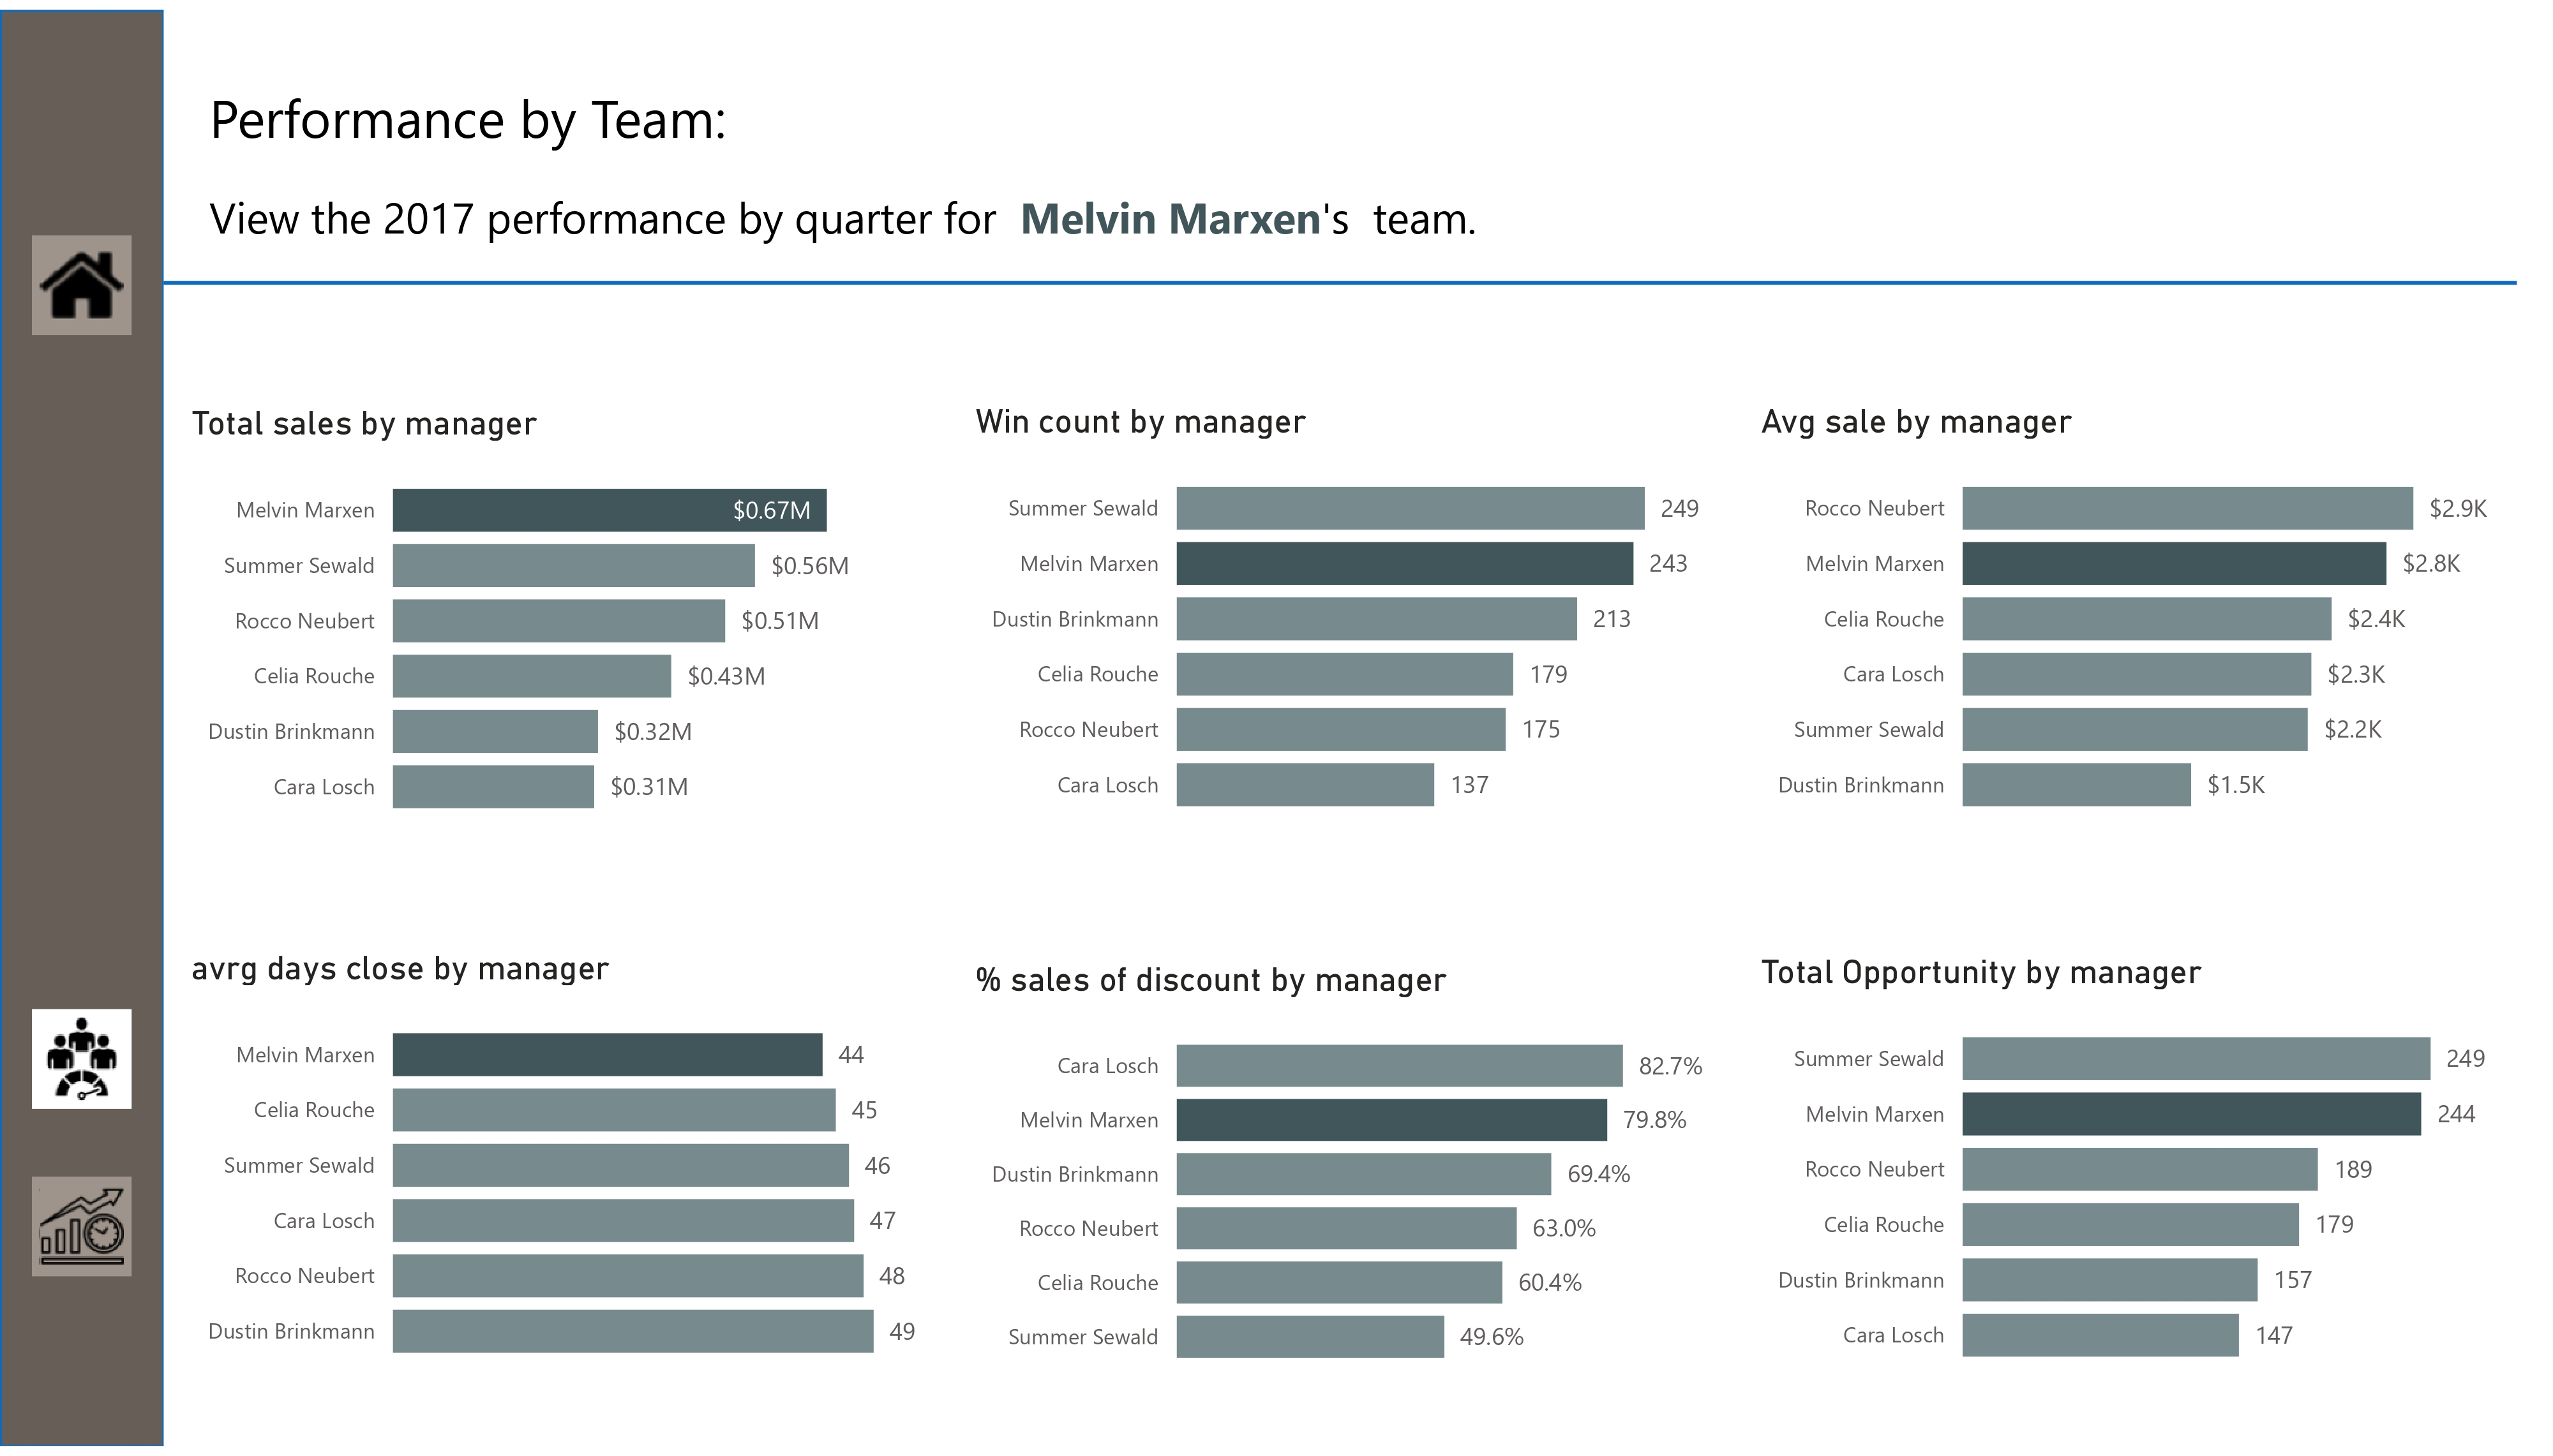

This screenshot's page, from the dashboard's own definition file:
{"tool":"powerbi","page":{"name":"Performance by Team","canvas":[1280,720],"ordinal":2},"visuals":[{"type":"clusteredBarChart","fields":{"Category":["sales_teams.manager"],"Y":["Measure.Total sales"]},"box":[90.8,196.9,375,220],"z":0},{"type":"clusteredBarChart","fields":{"Category":["sales_teams.manager"],"Y":["Measure.Win count"]},"box":[484.4,196.2,375,220],"z":1000},{"type":"clusteredBarChart","fields":{"Category":["sales_teams.manager"],"Y":["Measure.Avg sale"]},"box":[878,196.2,375,220],"z":3000},{"type":"clusteredBarChart","fields":{"Category":["sales_teams.manager"],"Y":["Measure.avrg days close"]},"box":[90.6,470.2,375.4,220],"z":4000},{"type":"clusteredBarChart","fields":{"Category":["sales_teams.manager"],"Y":["sales_pipeline.% sales of discount"]},"box":[484.3,475.5,375.4,216.3],"z":5000},{"type":"clusteredBarChart","fields":{"Category":["sales_teams.manager"],"Y":["Measure.Total Opportunity"]},"box":[878,472,375,220],"z":6000},{"type":"textbox","box":[100.1,84,672.2,46.5],"z":8000},{"type":"textbox","box":[100.1,30.4,286,50.1],"z":9000},{"type":"shape","box":[82.2,126.9,1179.9,19.7],"z":10000},{"type":"shape","box":[0,0,82.2,720.5],"z":11000},{"type":"actionButton","box":[16.1,500.6,50.1,50.1],"z":13000},{"type":"actionButton","box":[16.1,584.6,50.1,50.1],"z":13001},{"type":"actionButton","box":[16.1,112.6,50.1,50.1],"z":13002}]}

Visuals, with their boxes in screenshot pixels (x1, y1, x2, y2), scaled from the page's 1280x720 canvas onto the 2553x1456 screenshot:
clusteredBarChart - sales_teams.manager x Measure.Total sales: x1=181 y1=398 x2=929 y2=843
clusteredBarChart - sales_teams.manager x Measure.Win count: x1=966 y1=397 x2=1714 y2=842
clusteredBarChart - sales_teams.manager x Measure.Avg sale: x1=1751 y1=397 x2=2499 y2=842
clusteredBarChart - sales_teams.manager x Measure.avrg days close: x1=181 y1=951 x2=929 y2=1396
clusteredBarChart - sales_teams.manager x sales_pipeline.% sales of discount: x1=966 y1=962 x2=1715 y2=1399
clusteredBarChart - sales_teams.manager x Measure.Total Opportunity: x1=1751 y1=955 x2=2499 y2=1399
textbox: x1=200 y1=170 x2=1540 y2=264
textbox: x1=200 y1=61 x2=770 y2=163
shape: x1=164 y1=256 x2=2517 y2=297
shape: x1=0 y1=0 x2=164 y2=1455
actionButton: x1=32 y1=1013 x2=132 y2=1113
actionButton: x1=32 y1=1182 x2=132 y2=1284
actionButton: x1=32 y1=228 x2=132 y2=329
